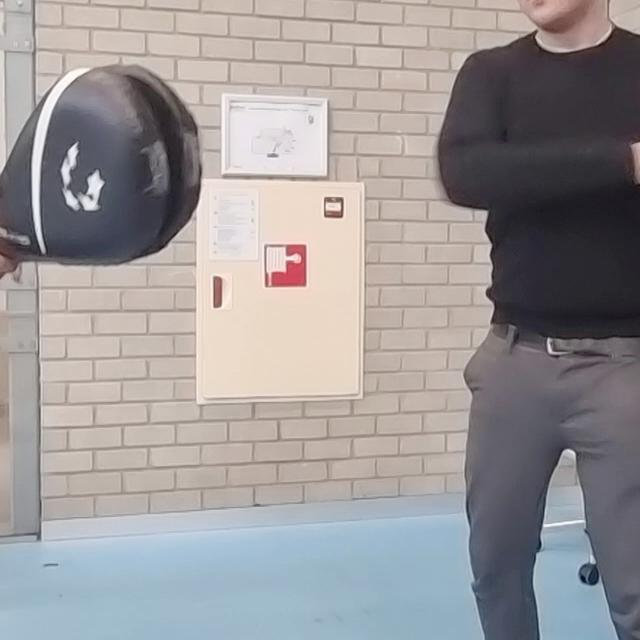paddle: (0, 61, 202, 266)
